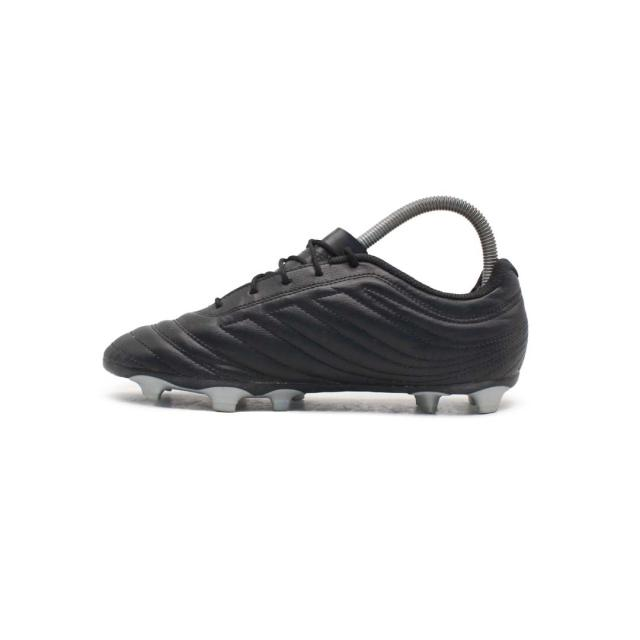heel: (487, 259, 527, 370)
midsole: (108, 352, 526, 415)
uppersole: (106, 230, 500, 380)
